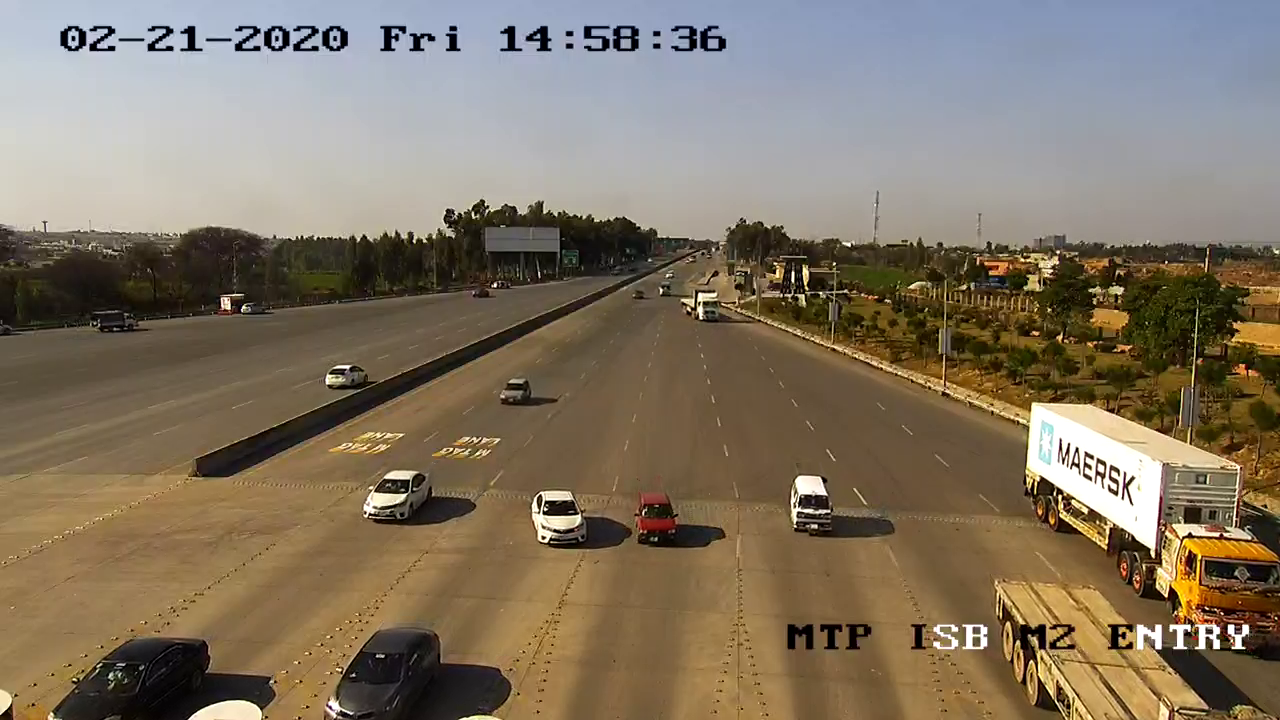f1: (312, 617, 460, 720), (352, 463, 440, 531), (617, 481, 689, 560), (522, 478, 591, 552), (781, 471, 843, 540)
